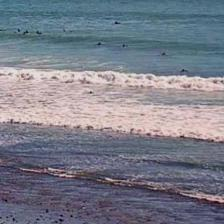surfer: (180, 69, 188, 72), (35, 31, 41, 35), (1, 28, 7, 32), (96, 42, 103, 45), (162, 52, 166, 56), (89, 91, 94, 94), (122, 44, 127, 47), (114, 22, 120, 24), (25, 31, 29, 34), (18, 29, 20, 32), (63, 29, 66, 31)
